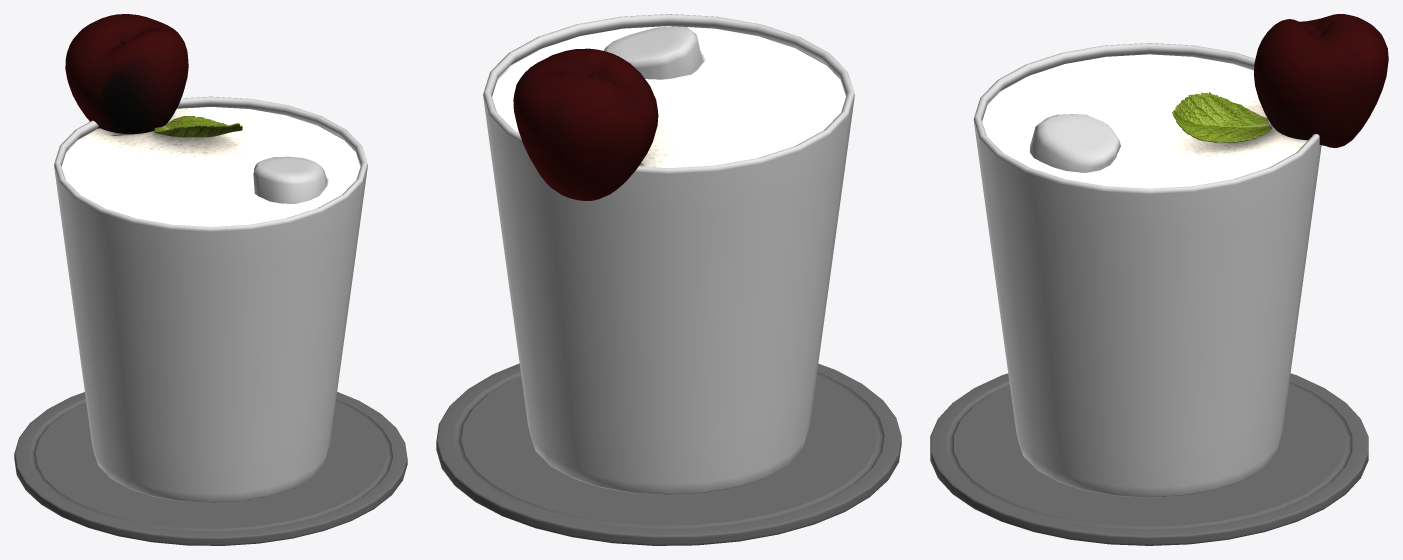
Rendered from cherry-draco.glb.
3 views of the same model, side by side, from view 1: azimuth 30°, elevation 25°; view 2: azimuth 150°, elevation 25°; view 3: azimuth 270°, elevation 25° (orthographic). The views are drawn at different scales.
Visible parts, largest first — view 1: glass, posavasos, liquido, cereza, ice, hoja02; view 2: glass, posavasos, liquido, cereza, ice; view 3: glass, posavasos, liquido, cereza, ice, hoja02.
Part boxes in pixels (box(x1,y1,x2,y2)): glass: box(54, 96, 367, 502); posavasos: box(14, 392, 407, 545); liquido: box(61, 107, 360, 226); cereza: box(65, 14, 188, 134); ice: box(253, 156, 327, 203); hoja02: box(154, 116, 242, 137); glass: box(483, 14, 854, 495); posavasos: box(436, 363, 901, 545); liquido: box(492, 26, 845, 168); cereza: box(513, 48, 658, 200); ice: box(604, 26, 702, 79); glass: box(973, 43, 1321, 497); posavasos: box(930, 373, 1368, 545); liquido: box(982, 54, 1307, 188); cereza: box(1254, 14, 1388, 147); ice: box(1030, 114, 1120, 172); hoja02: box(1172, 92, 1271, 143).
Bounding box in the file's own units: 0.4987 × 0.5344 × 0.5194.
Materials: 6 (3 with a texture image).
